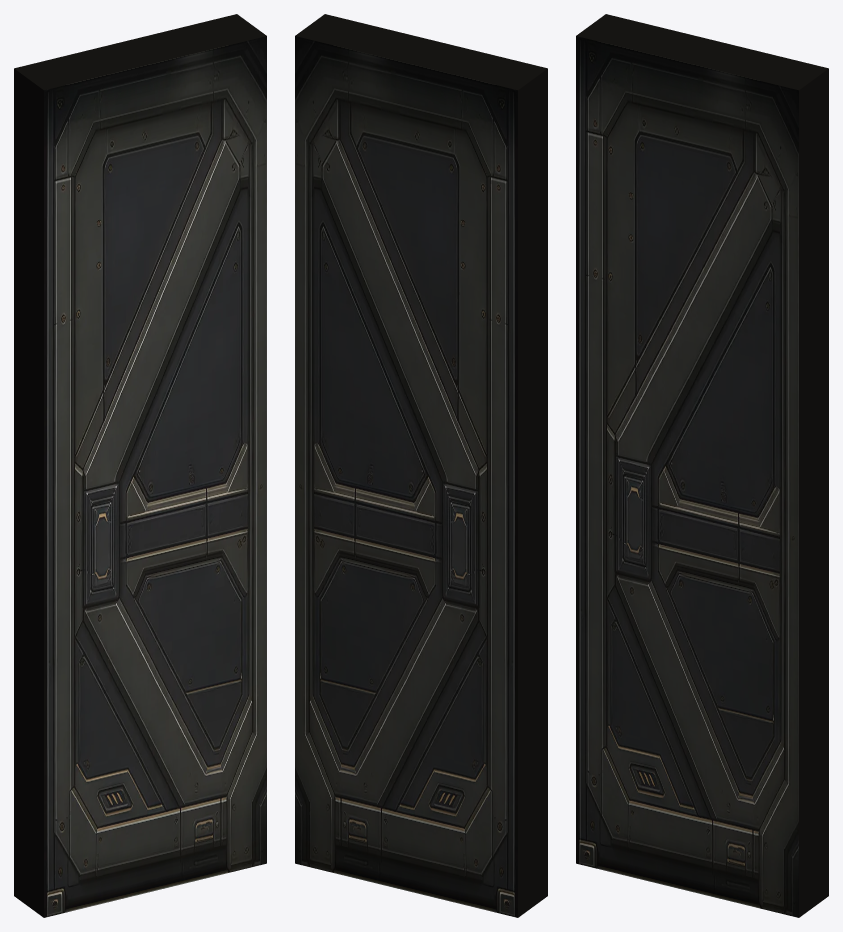
Rendered from obj_space_door_right.glb.
The picture shows the model from 3 angles, left to right: view 1: azimuth 30°, elevation 25°; view 2: azimuth 150°, elevation 25°; view 3: azimuth 330°, elevation 25°; orthographic projection.
Visible parts, largest first — view 1: space_door_right; view 2: space_door_right; view 3: space_door_right.
Part boxes in pixels (x1=…): space_door_right: x1=14, y1=14, x2=266, y2=917; space_door_right: x1=295, y1=14, x2=547, y2=917; space_door_right: x1=576, y1=14, x2=828, y2=917.
Bounding box in the file's own units: 0.172 × 0.61 × 0.04.
1 material, 1 textured.
